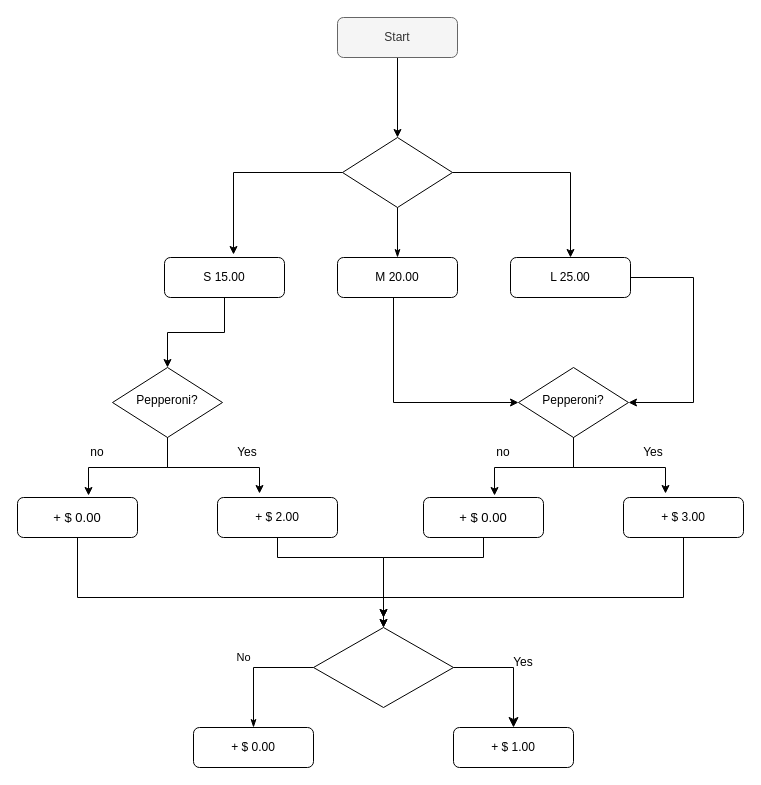
Some shapes in this 761 by 785 pixel diagram are drawn without their labels. The box of each missing label's shape, as (x1, y1, x2, y2) in pixels:
Extra Cheese: (312, 626, 454, 708)
Pizza Siza: (342, 136, 452, 208)
